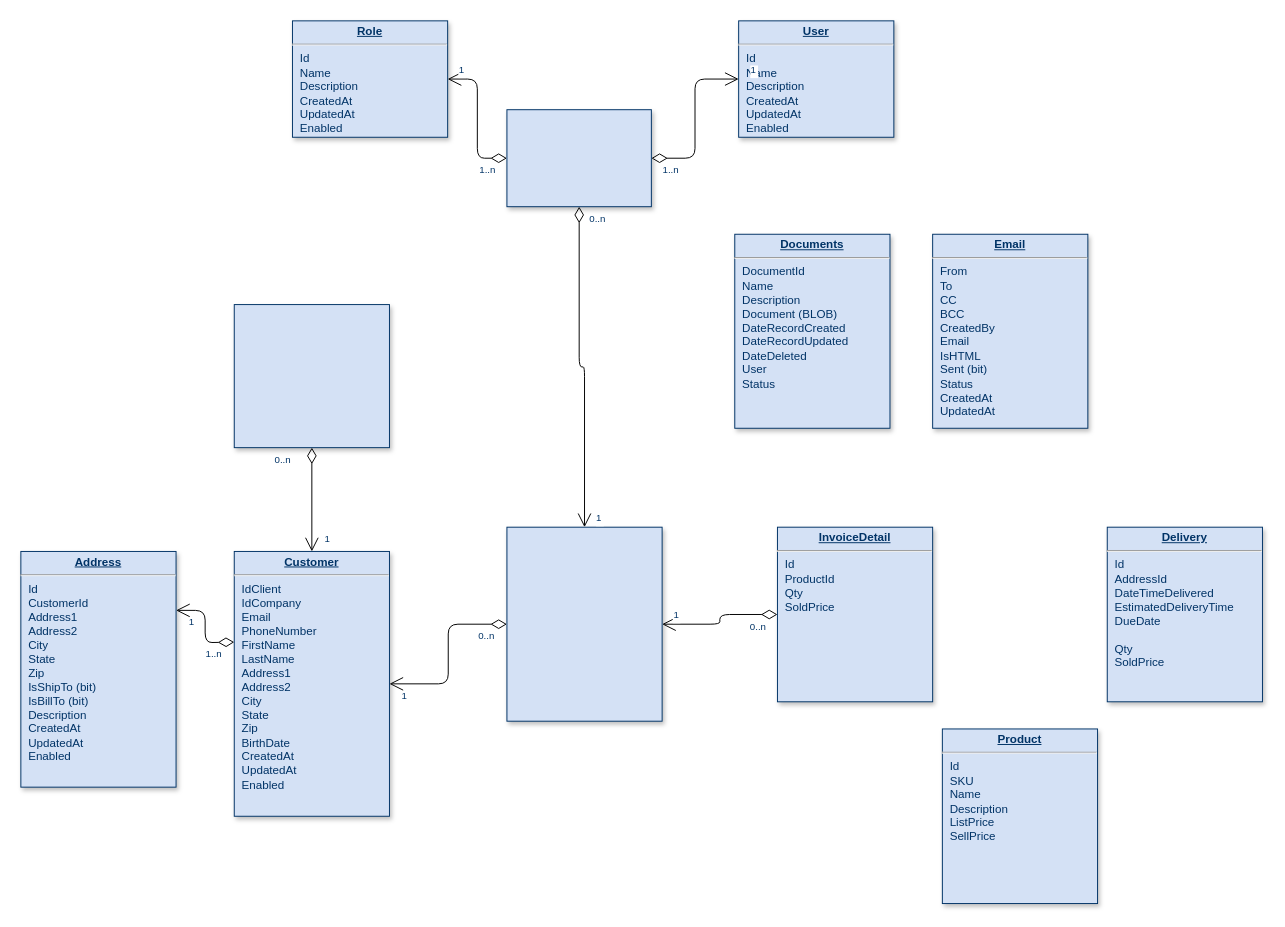
This 1285x927 diagram has some shape labels left out. The centre of each missing label's shape, as x and y in pixels:
Invoice Id CustomerId Name CreatedAt UpdatedAt: the point at 585,625
ShoppingCart Id CustomerId Name Description CreatedAt UpdatedAt Abandoned: the point at 312,377
UserRole IdUserProjectRole IdRole IdProject IdUser: the point at 579,159
